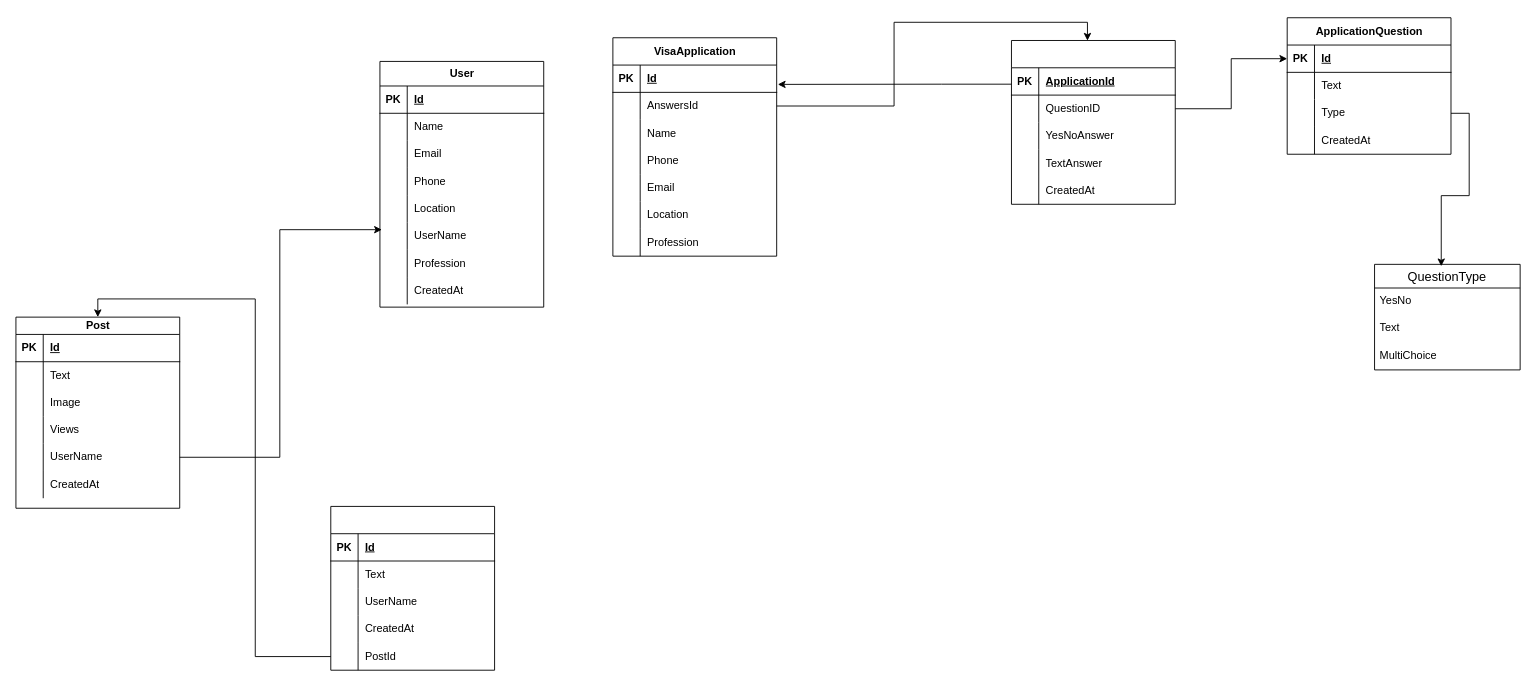
The diagram is 1536 pixels wide and 686 high, and some of its shapes have lost their labels. Each missing label, with the box of its shape:
ApplicationAnswers: (1011, 40, 1175, 204)
Comment: (330, 506, 495, 670)
